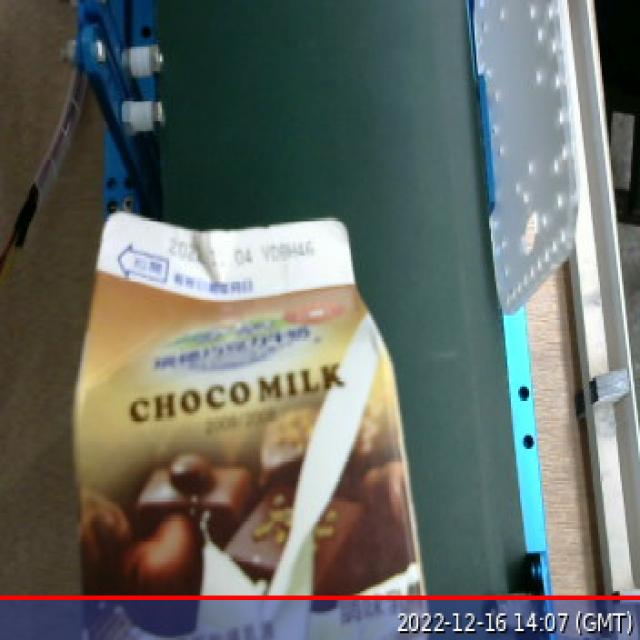non_white_jug: (62, 183, 426, 640)
